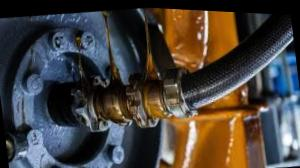leak: (93, 11, 125, 82), (131, 9, 160, 80), (66, 29, 91, 85)
